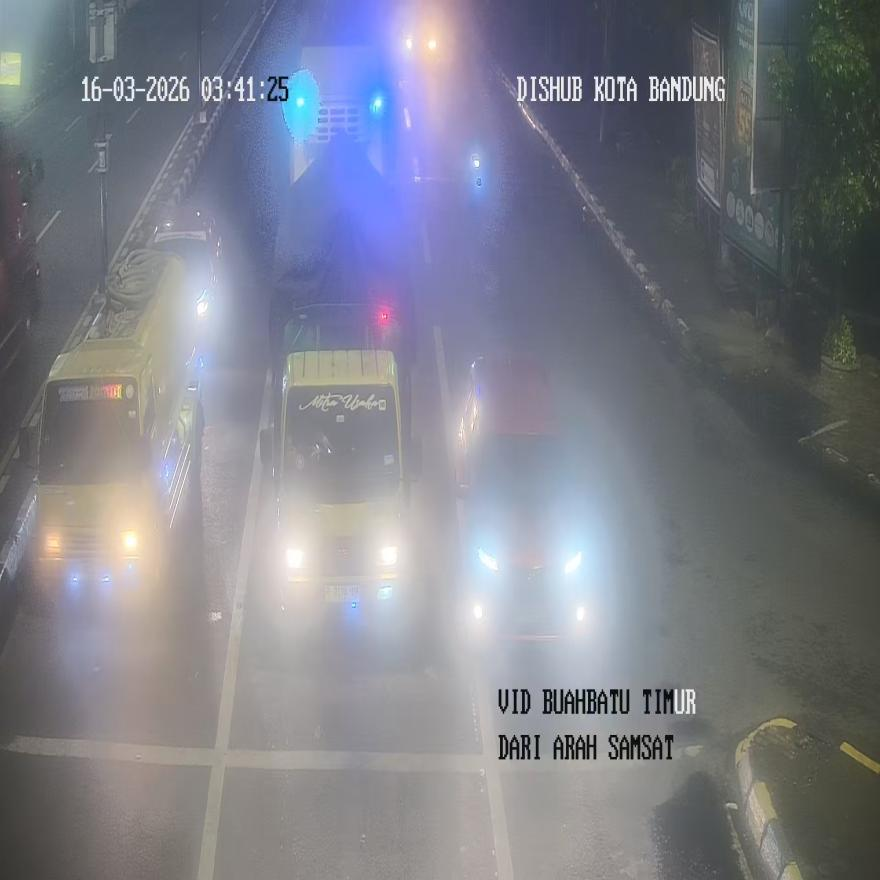Motor: (455, 348, 600, 649)
Truk: (456, 131, 492, 199)
